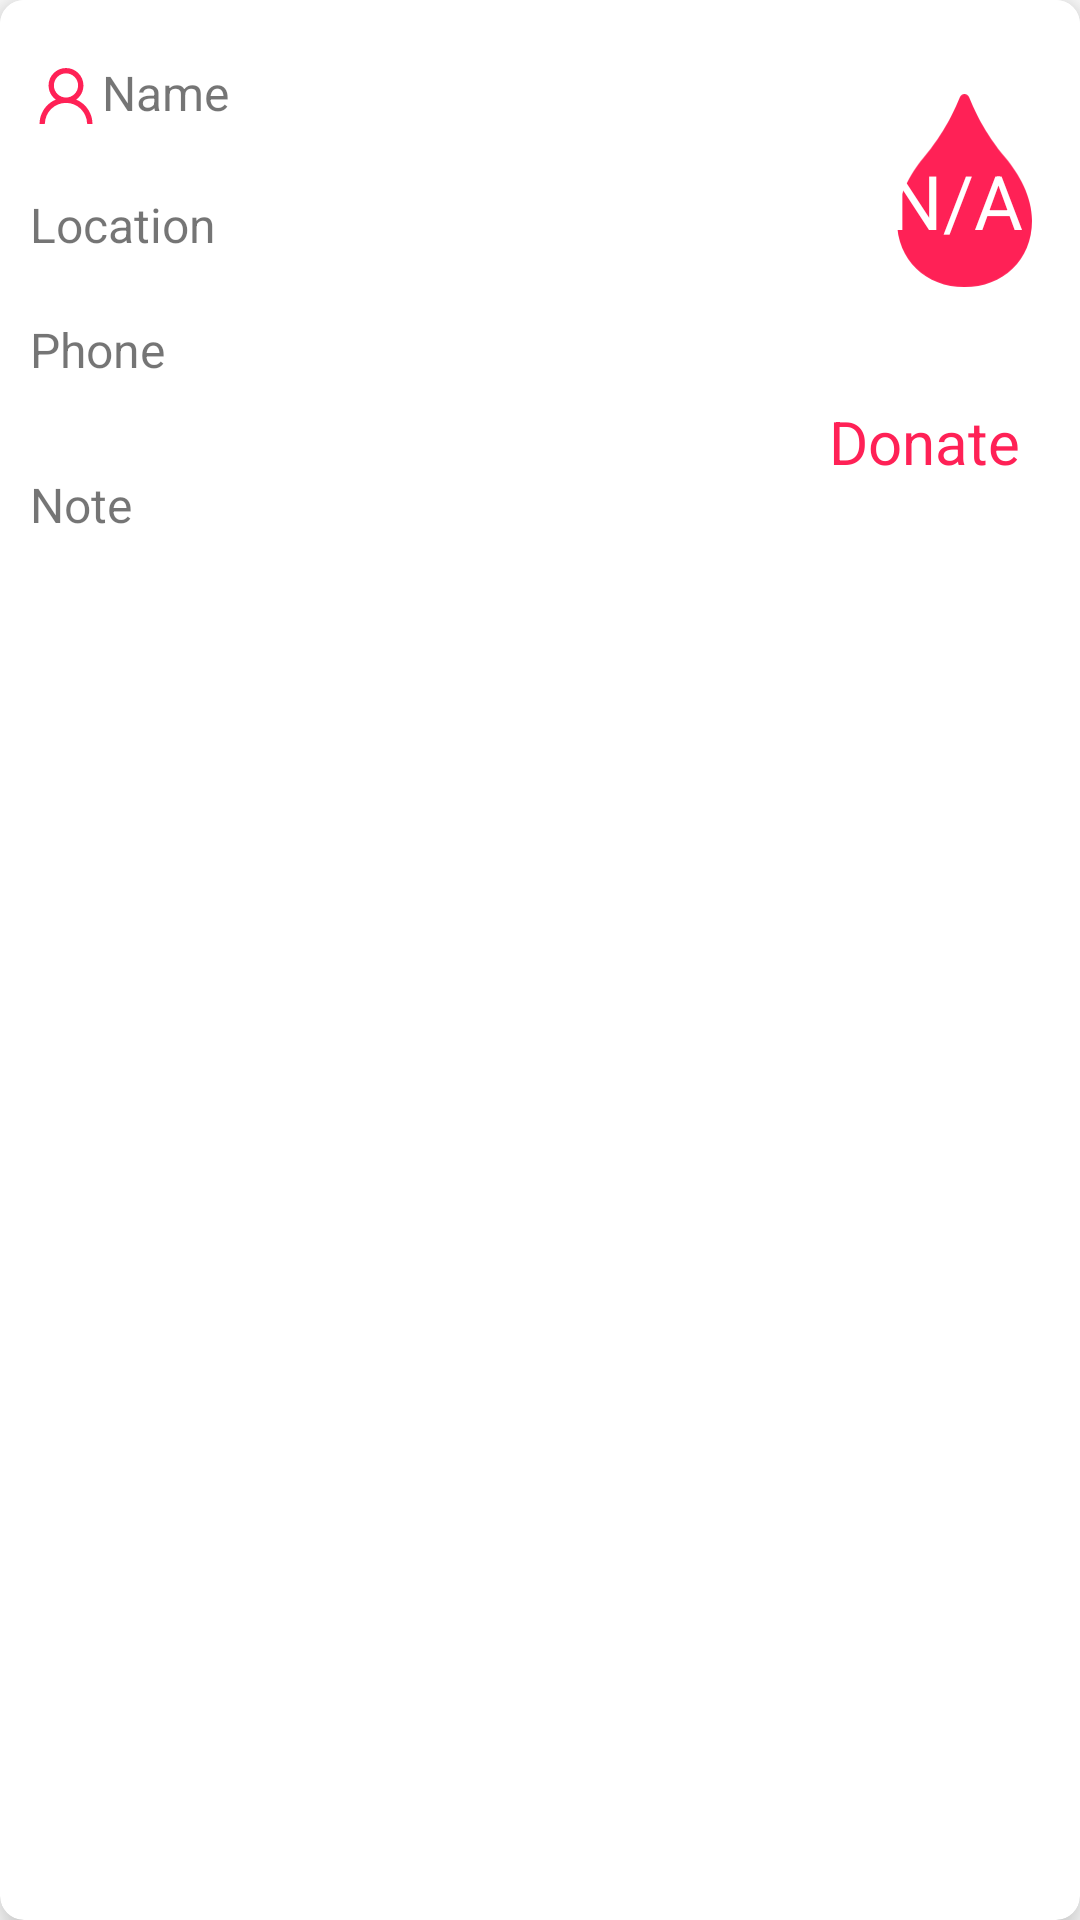

Where to tap for icons on this 1080px×1920px app screen, as (x=x, y=y):
blood blank: (x=964, y=190)
